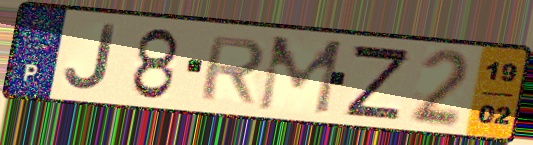2: (407, 47, 473, 129)
8: (131, 26, 180, 100)
J: (61, 22, 119, 93)
M: (253, 34, 346, 117)
R: (196, 34, 269, 106)
Z: (343, 41, 413, 123)
